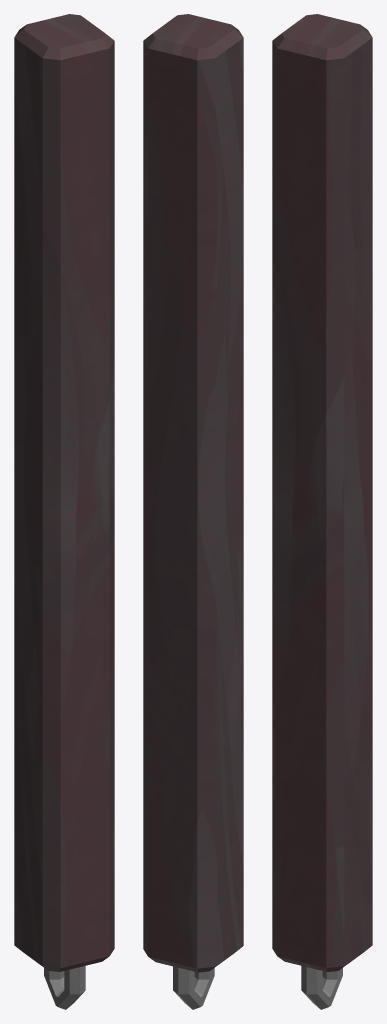
Rendered from Fishing_Rod.fbx.
3 views of the same model, side by side, from view 1: azimuth 30°, elevation 25°; view 2: azimuth 150°, elevation 25°; view 3: azimuth 330°, elevation 25° (orthographic).
Visible parts, largest first — view 1: fishing_rod; view 2: fishing_rod; view 3: fishing_rod.
Part boxes in pixels (x1,y1,x2,y2): fishing_rod: [14, 14, 114, 1009]; fishing_rod: [143, 14, 243, 1009]; fishing_rod: [272, 14, 372, 1009].
Size of the model in its own units: 10.48 by 136 by 10.48.
